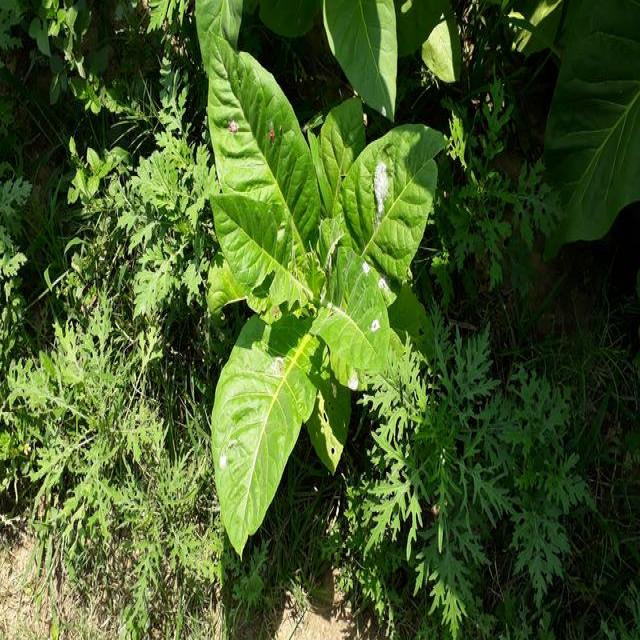crop: (194, 31, 442, 545)
